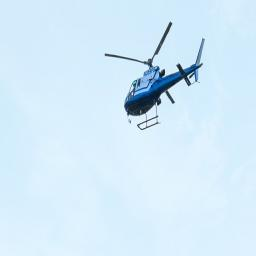helicopter: (104, 12, 211, 140)
